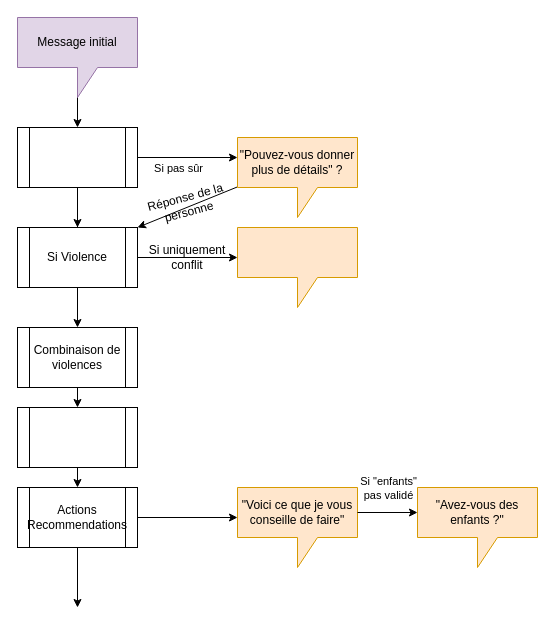
The diagram is 555 pixels wide and 633 high, and some of its shapes have lost their labels. The centre of each missing label's shape, as x and y in pixels:
"Il s'agit d'un conflit": (x=297, y=267)
Différence Conflit/Violence: (x=77, y=157)
Vérification des conditions pour les actions: (x=77, y=437)
